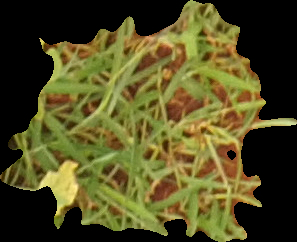grass: (1, 1, 295, 240)
